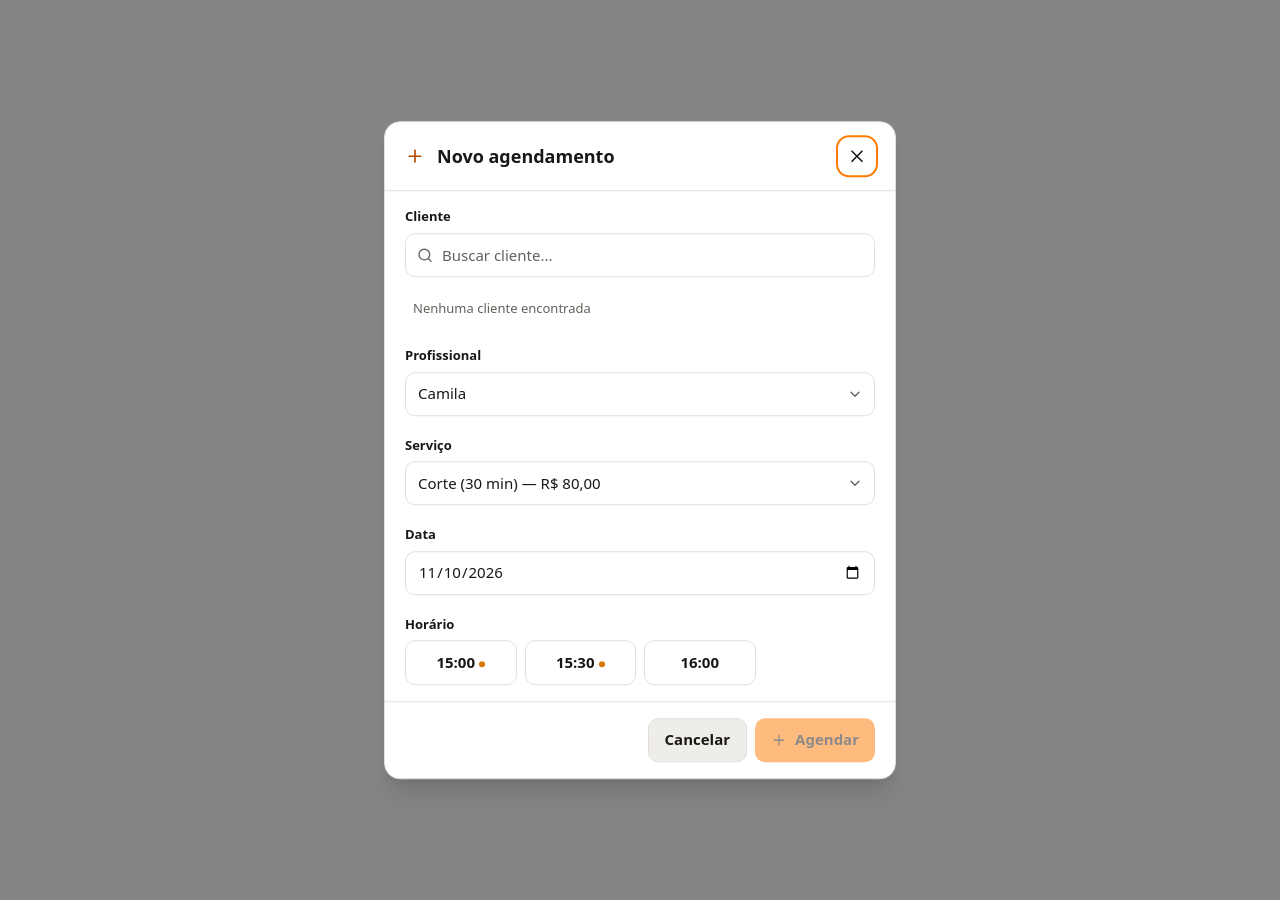
Scenario: Ocupado (Google) na agenda do painel › aviso ao criar por cima
Step 1. Click the button "15:30" → click(580, 663), box [524, 640, 636, 685]
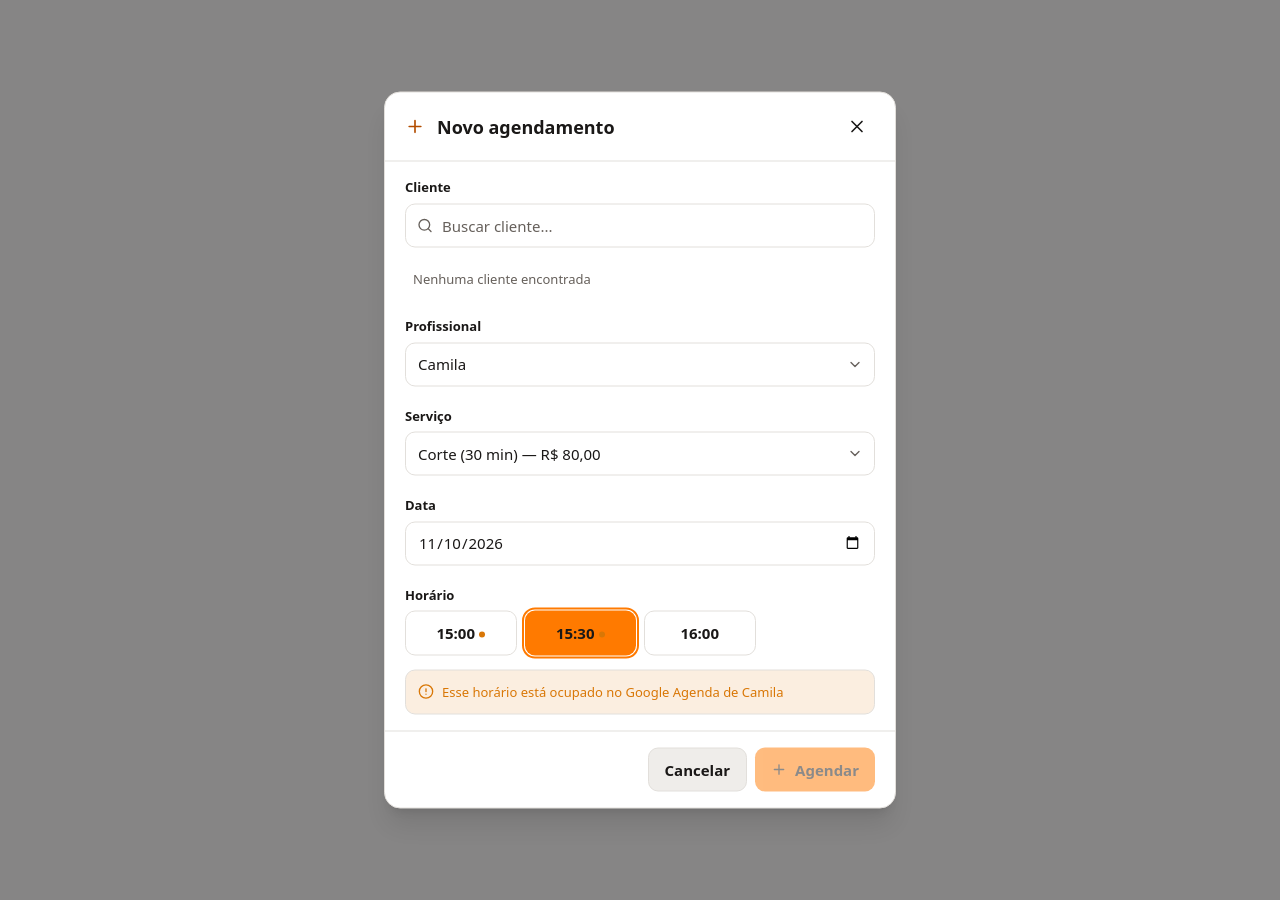
Result: the text "Esse horário está ocupado no Google Agenda de Camila" is shown at [442, 682, 784, 702]
Step 2. Click the button "16:00" → click(700, 633), box [644, 610, 756, 655]
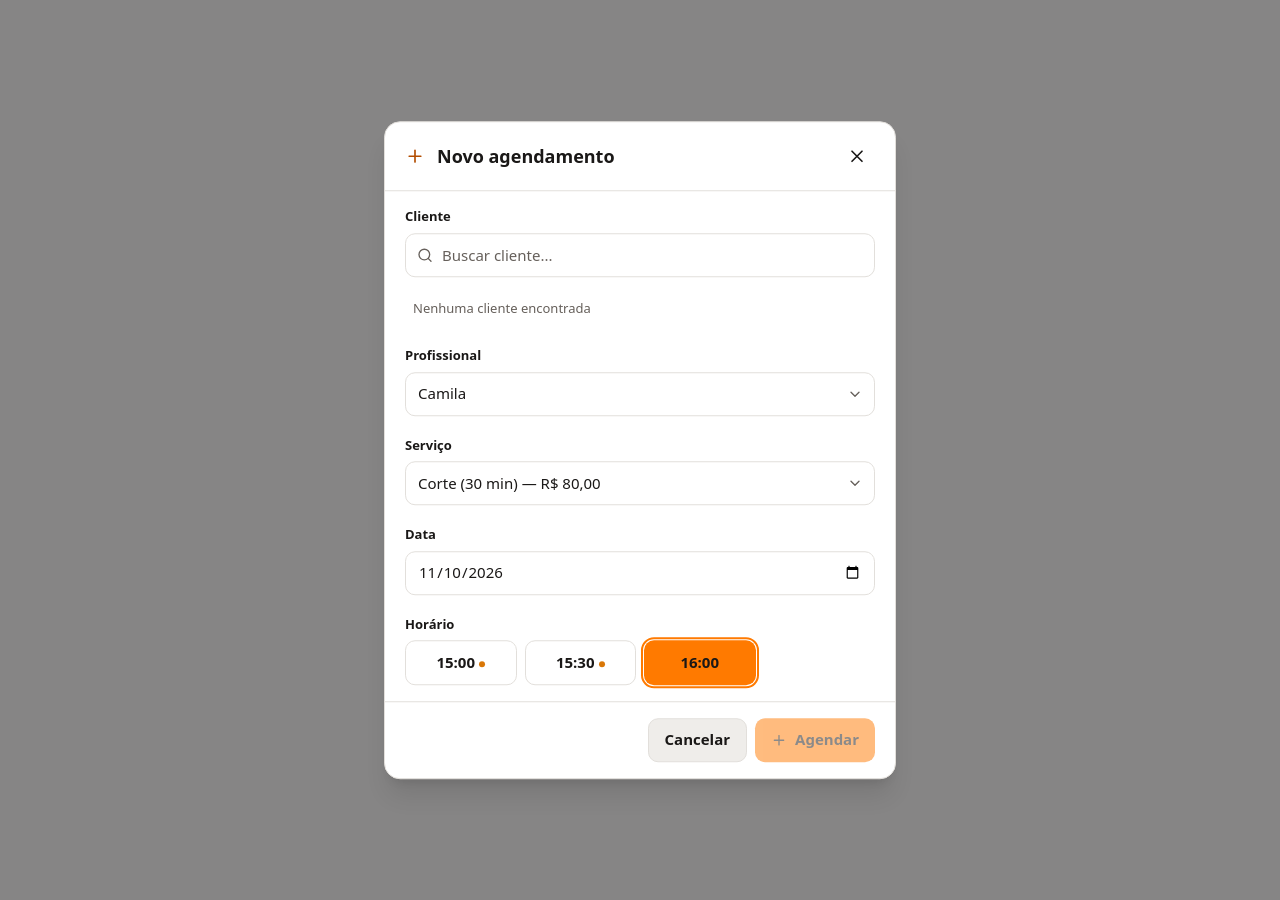
Result: the text "ocupado no Google Agenda" is gone
